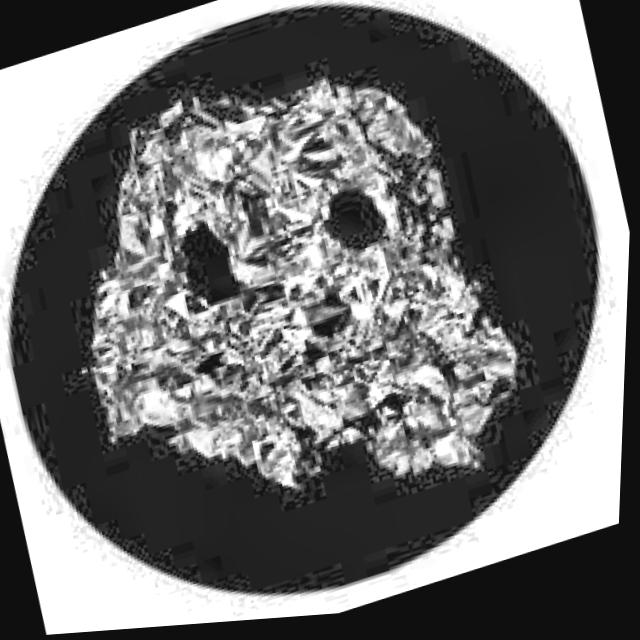Foil: (23, 15, 567, 585)
